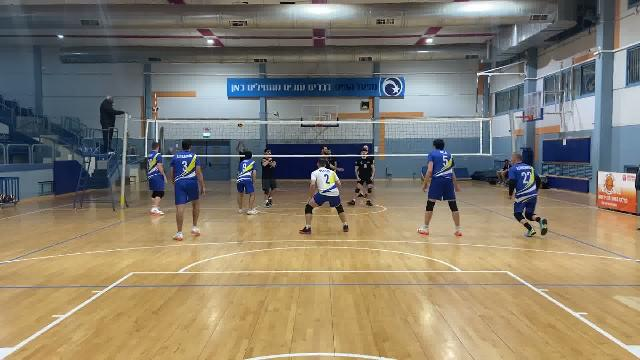ball: (237, 120, 243, 129)
